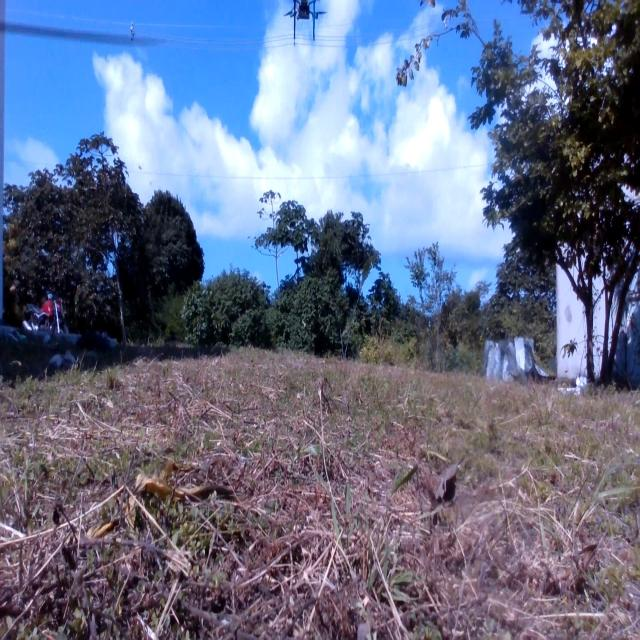-uav-: (285, 0, 328, 43)
